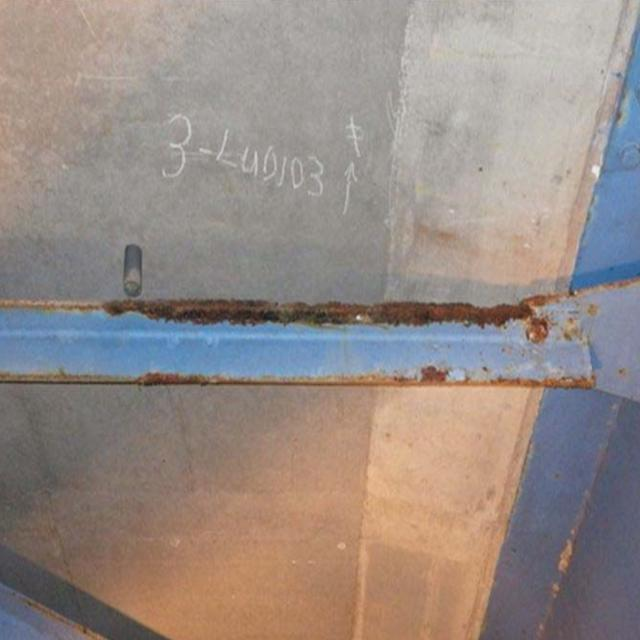corrosion: (11, 235, 618, 436)
